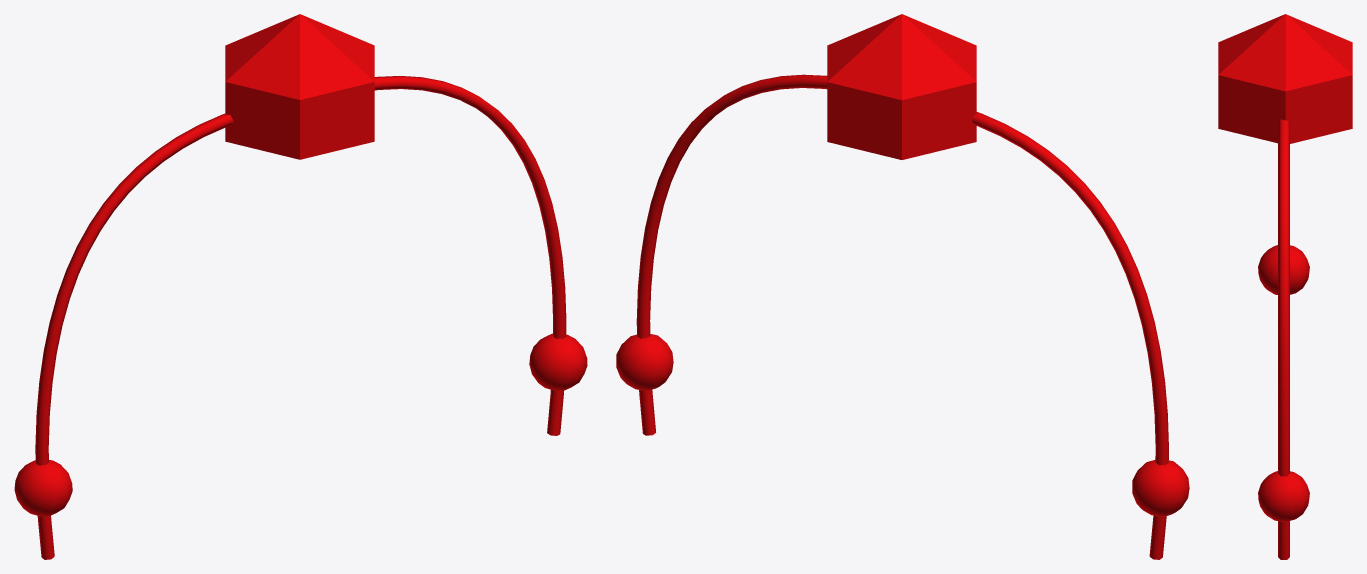
Rendered from momiji_hat.glb.
The picture shows the model from 3 angles, left to right: view 1: azimuth 30°, elevation 25°; view 2: azimuth 150°, elevation 25°; view 3: azimuth 270°, elevation 25°; orthographic projection. The views are drawn at different scales.
Parts seen in each view (by area): view 1: momiji_hat; view 2: momiji_hat; view 3: momiji_hat.
Boxes of the visible parts, x1,y1,x2,y2 form: momiji_hat: (14,14,587,559); momiji_hat: (616,14,1189,559); momiji_hat: (1218,14,1352,559).
Bounding box in the file's own units: 1.95 × 1.59 × 0.447.
